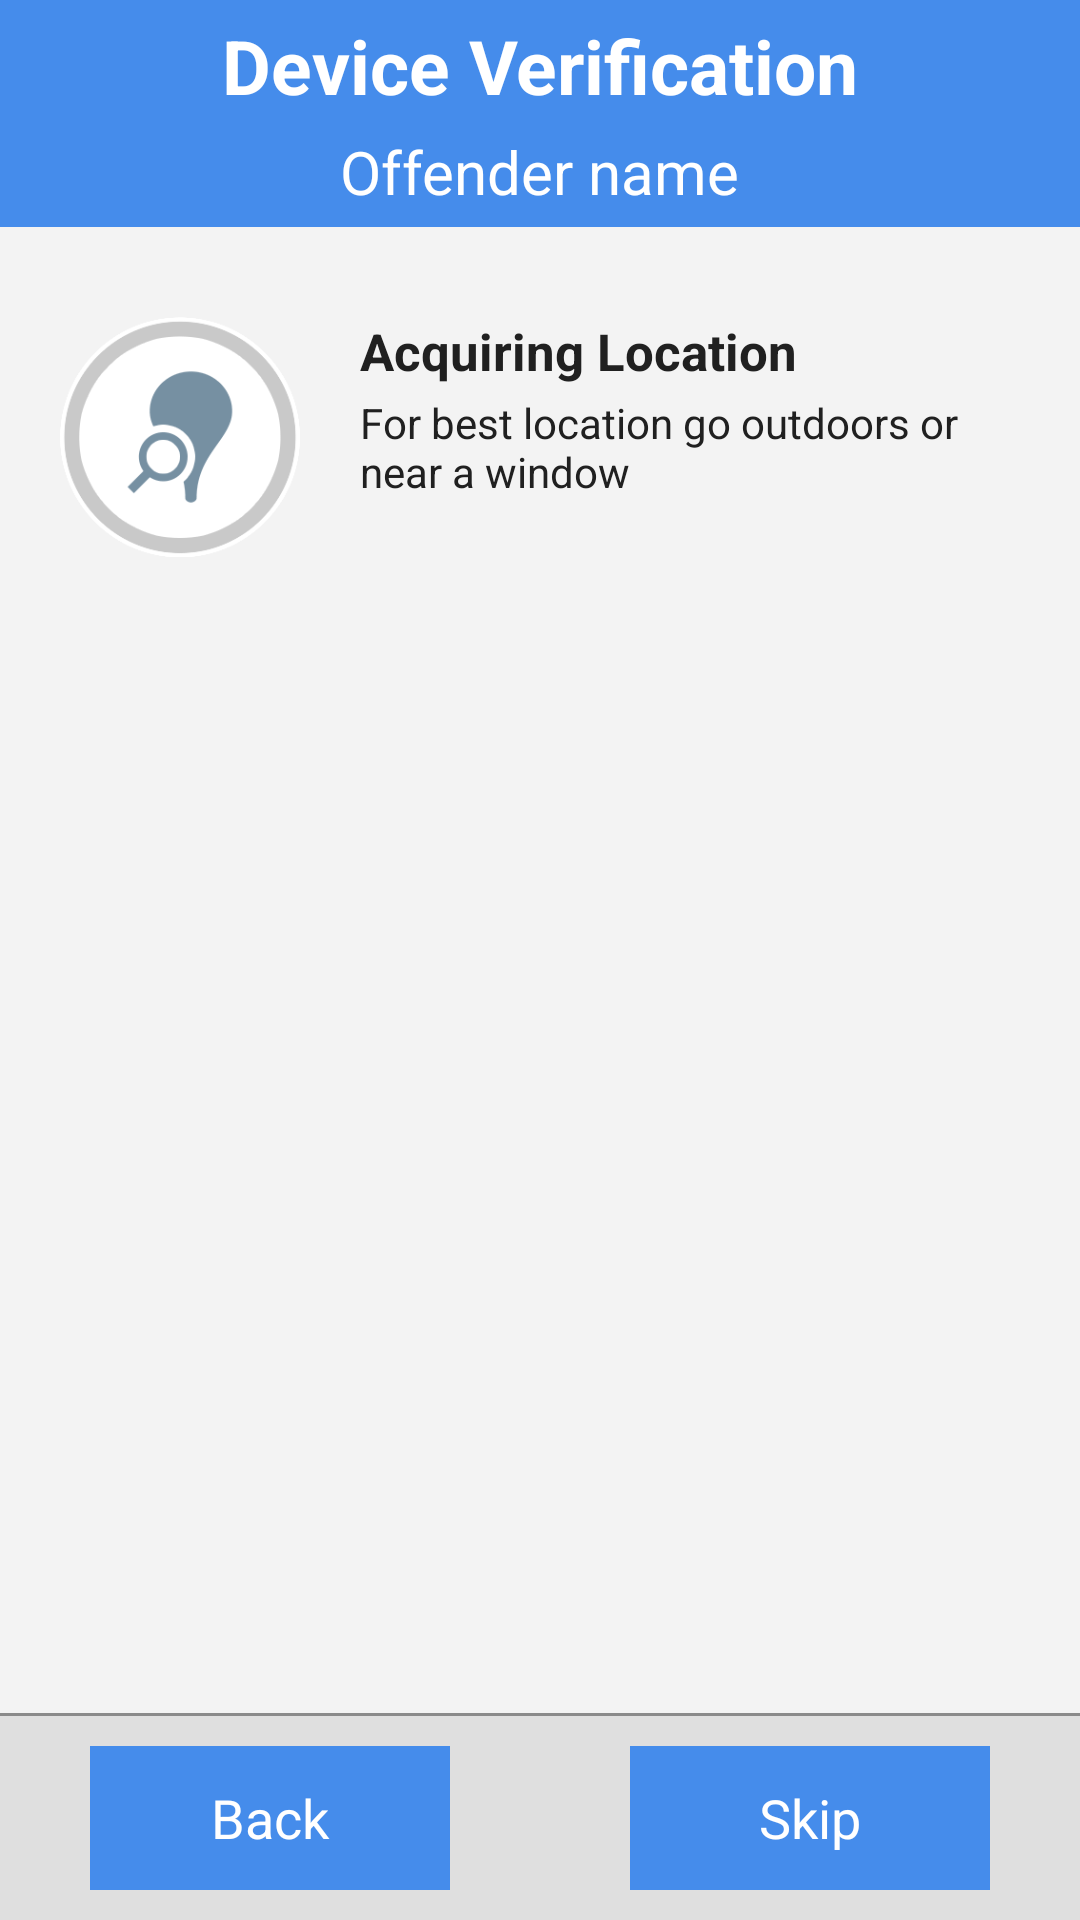

Where icons sit on this 1080px x 1920px app screen, as bbox=(x1, y1, x2, y2):
enrollment location testing animation: bbox=(60, 317, 300, 557)
